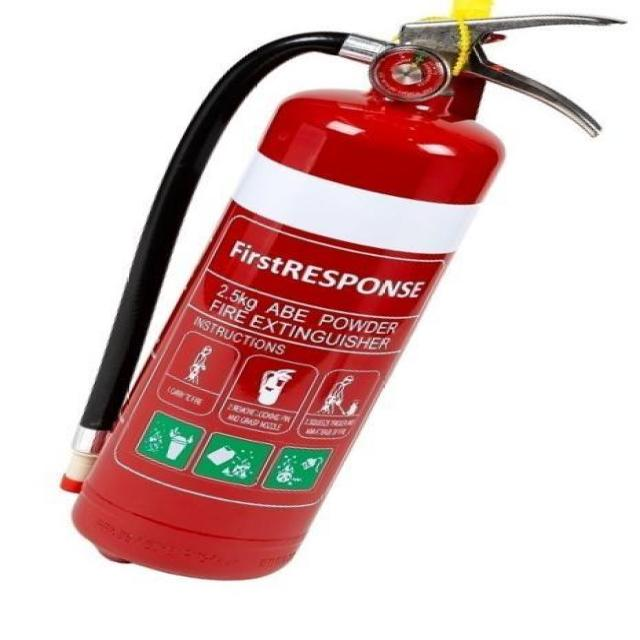fire_extinguisher: (49, 0, 638, 588)
